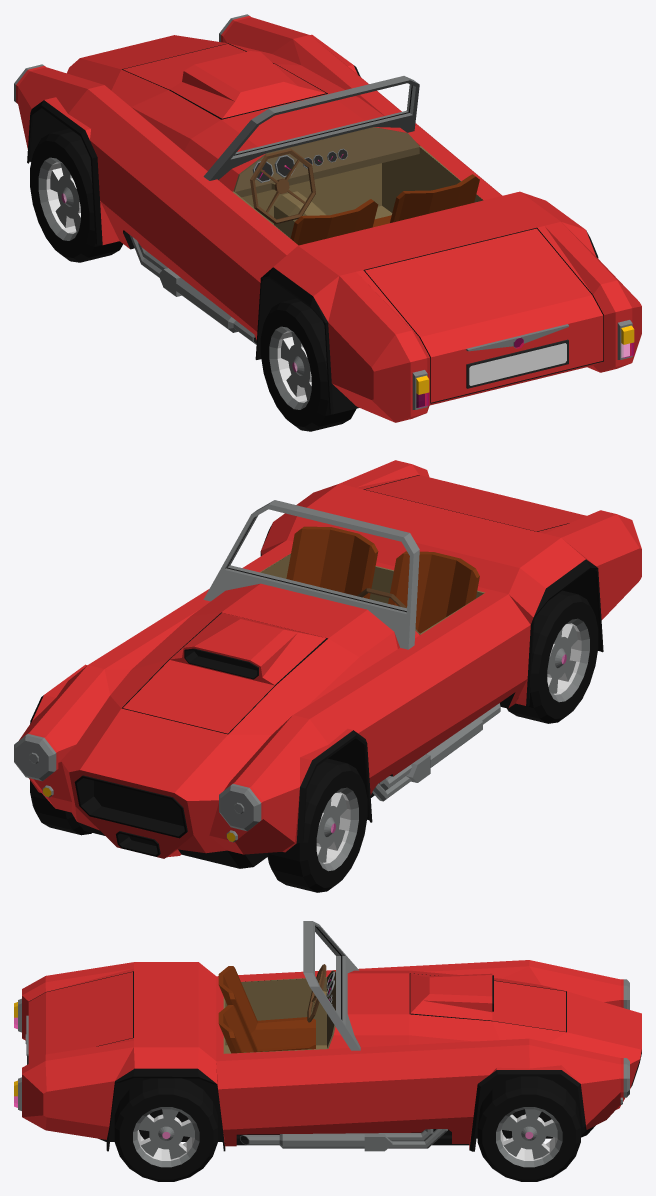
3 views of the same model, one above another, from view 1: azimuth 30°, elevation 25°; view 2: azimuth 150°, elevation 25°; view 3: azimuth 270°, elevation 25° (orthographic). The views are drawn at different scales.
Parts seen in each view (by area): view 1: T104_allblack_2, T104_allblack.002_3; view 2: T104_allblack_2; view 3: T104_allblack_2, T104_allblack.002_3.
Boxes of the visible parts, bbox=[...] form: T104_allblack_2: bbox=[14, 14, 641, 431]; T104_allblack.002_3: bbox=[233, 127, 419, 224]; T104_allblack_2: bbox=[14, 460, 641, 892]; T104_allblack_2: bbox=[14, 921, 641, 1181]; T104_allblack.002_3: bbox=[307, 964, 335, 1048].
Size of the model in its own units: 1.6 by 1.27 by 3.96.
